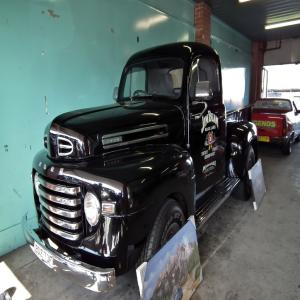Vehicle-registration-plate: (34, 241, 54, 268), (259, 136, 270, 142)
